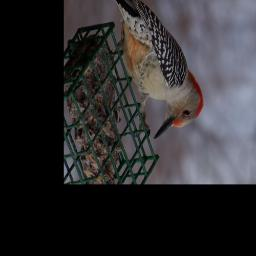Woodpecker: (107, 0, 204, 138)
